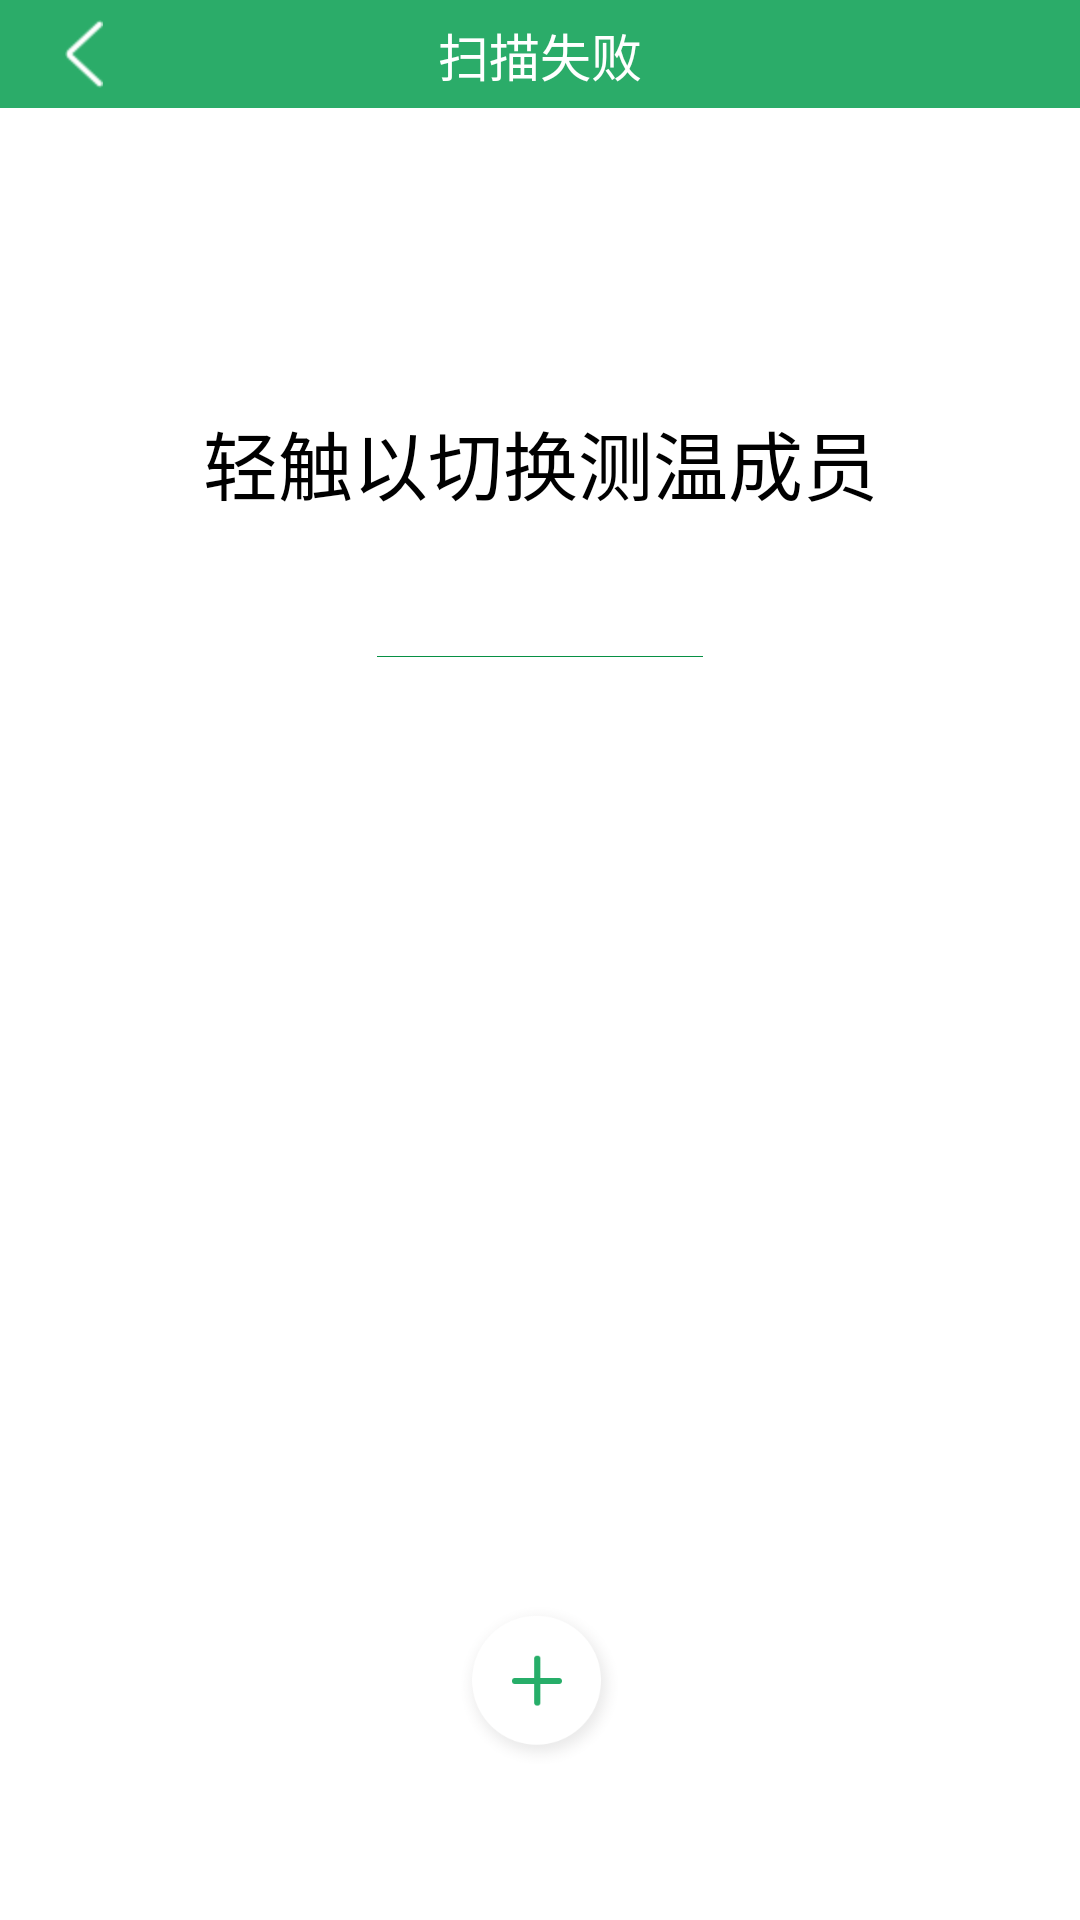

Screen size 1080 x 1920. Icon name, then its box in pixels as (x1, y1, x2, y2):
add: (512, 1655, 562, 1706)
back: (65, 20, 103, 88)
